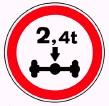Transito proibido a veiculos de peso por eixo superior a ... t: (6, 4, 103, 101)
